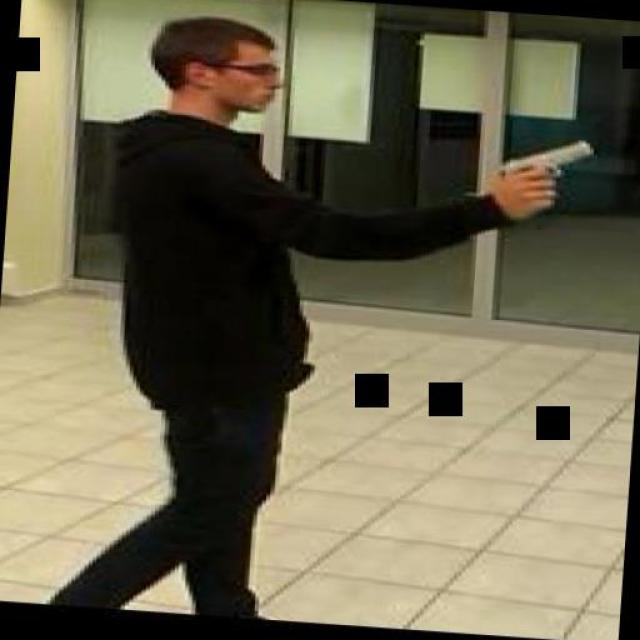gun: (491, 134, 594, 215)
